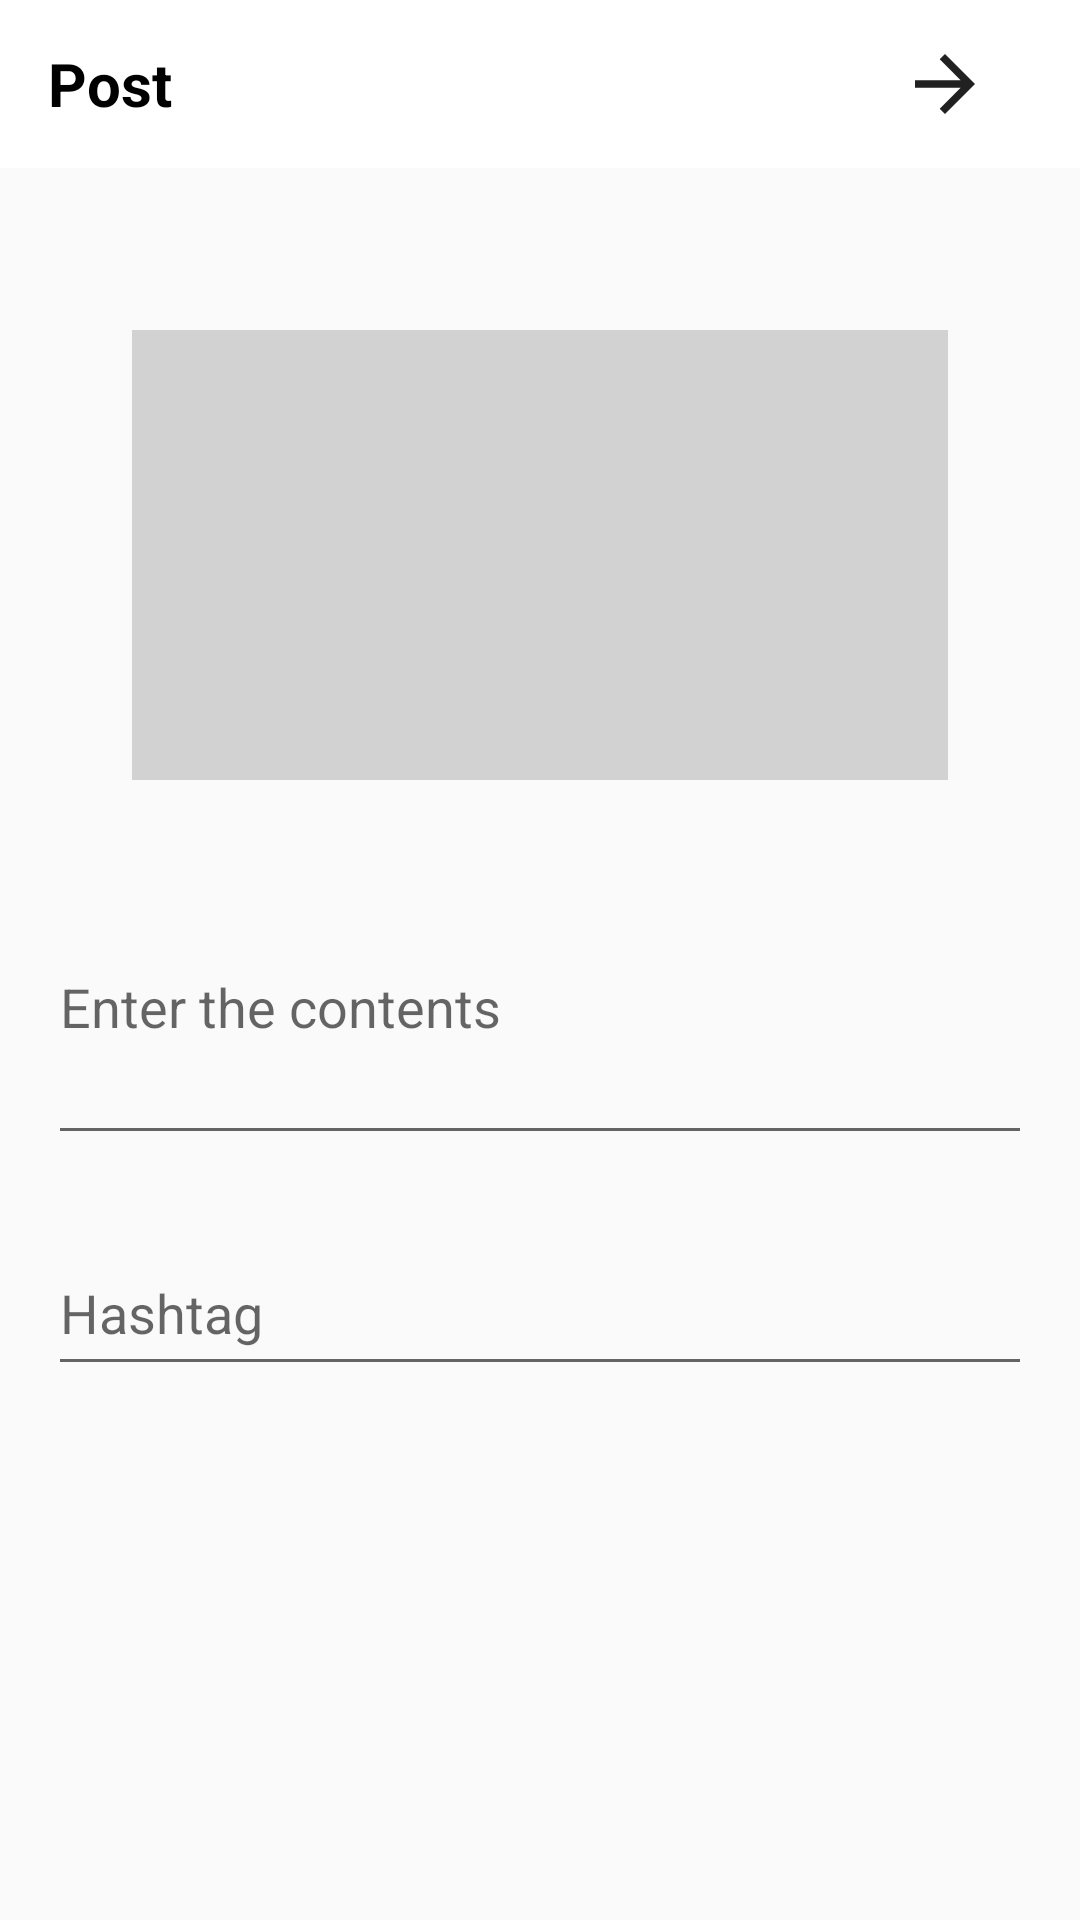

Where icons sit on this 1080 x 1920 app screen, as {"x1": x1, "y1": y1, "x2": x2, "y2": y2}:
right arrow: {"x1": 915, "y1": 54, "x2": 975, "y2": 114}
